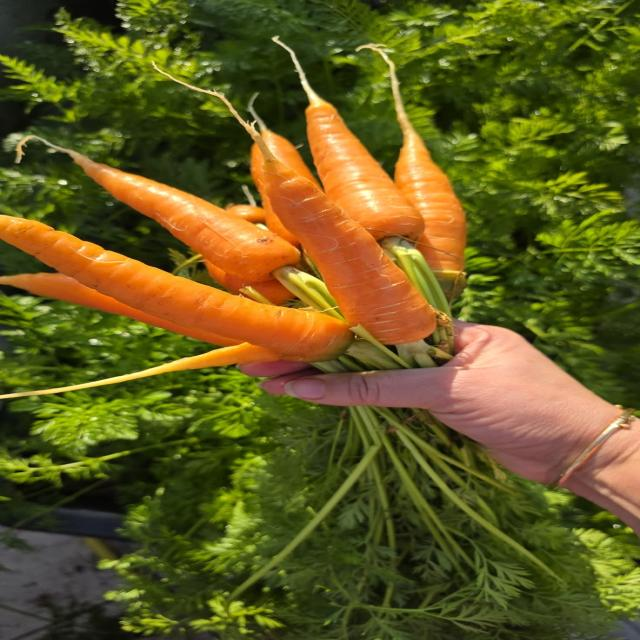carrot: (161, 72, 436, 344), (0, 216, 353, 361), (19, 137, 299, 281), (264, 151, 436, 344), (273, 38, 424, 239), (360, 46, 466, 284), (0, 273, 240, 346), (0, 343, 278, 399), (250, 143, 299, 245), (205, 261, 294, 305), (226, 204, 265, 223)
